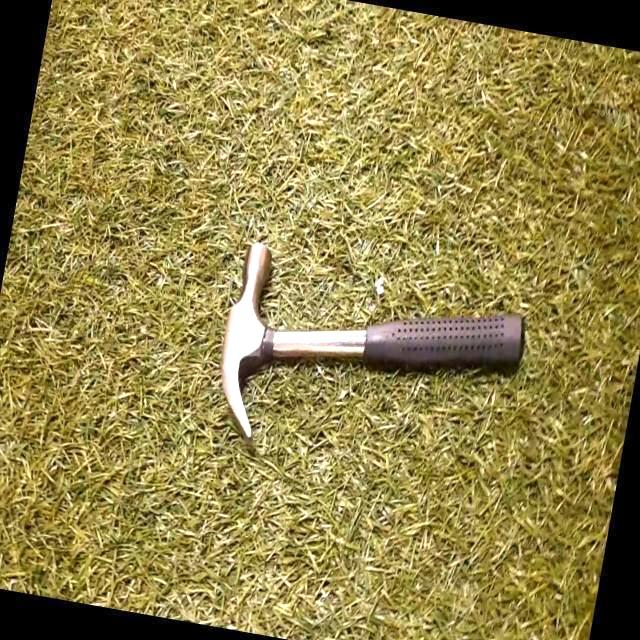hammer: (219, 238, 525, 452)
